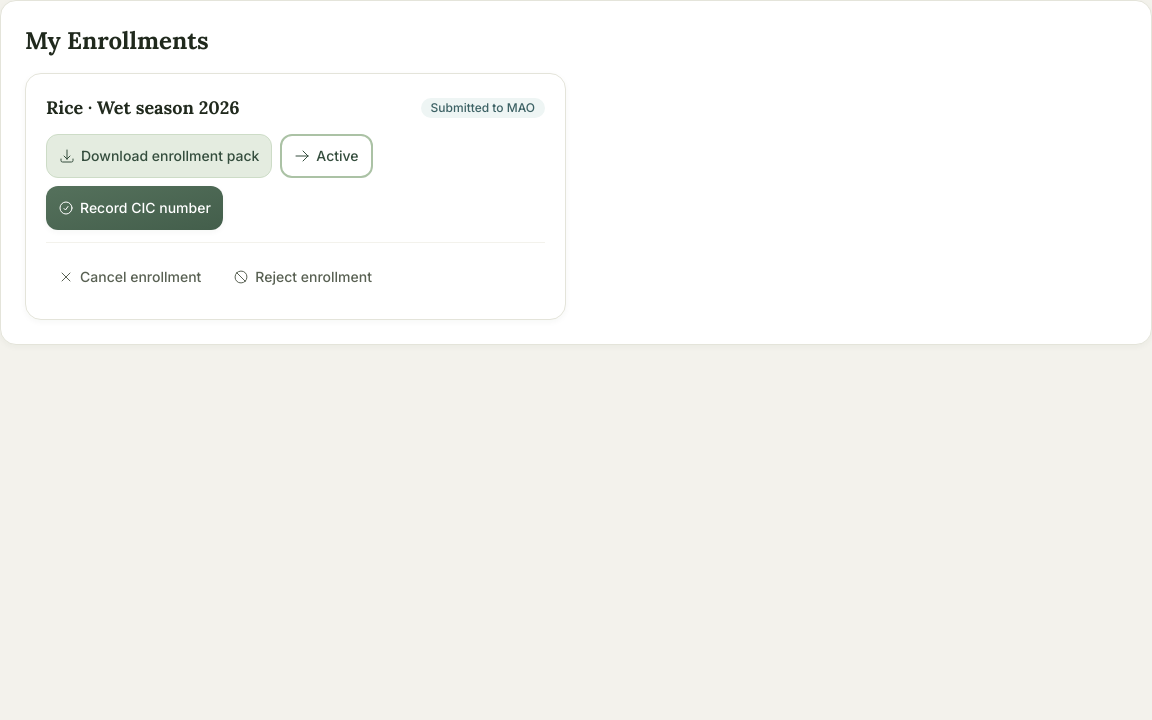
Scenario: EnrollmentTracker › blocks policy details with an empty CIC number
Step 1. Click the button with test id "record-cic-11" → (134, 208), box x1=46 y1=186 x2=223 y2=230
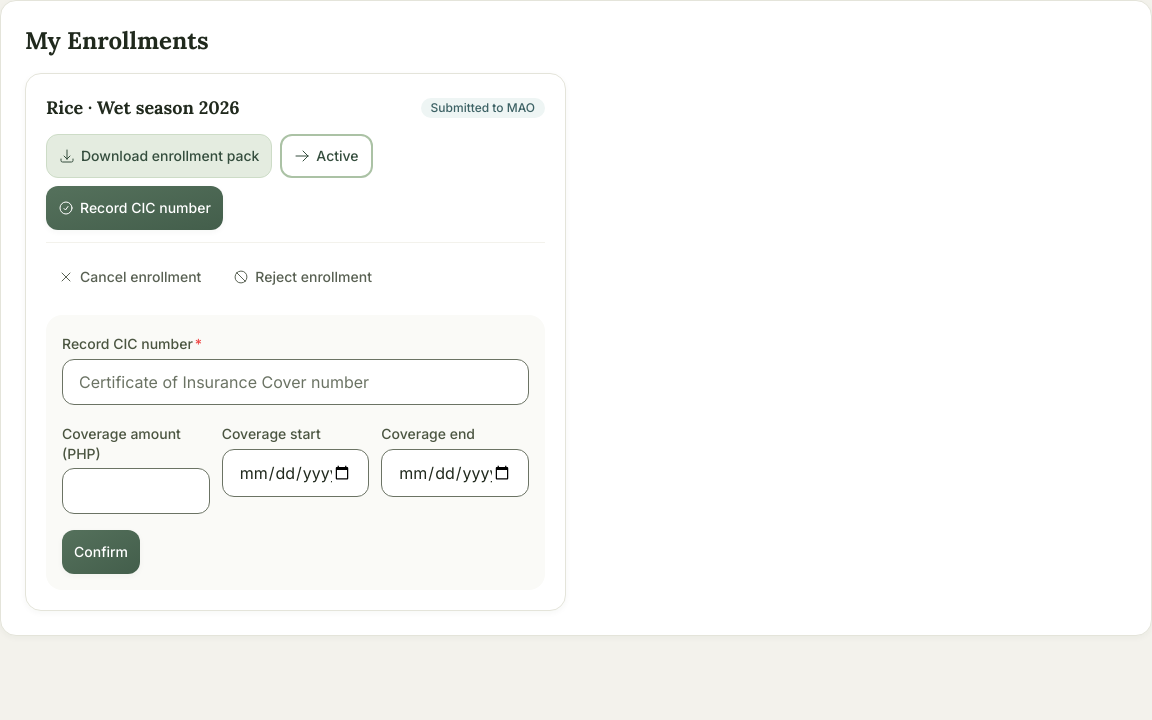
Step 2. Submit the form, box x1=46 y1=315 x2=545 y2=590
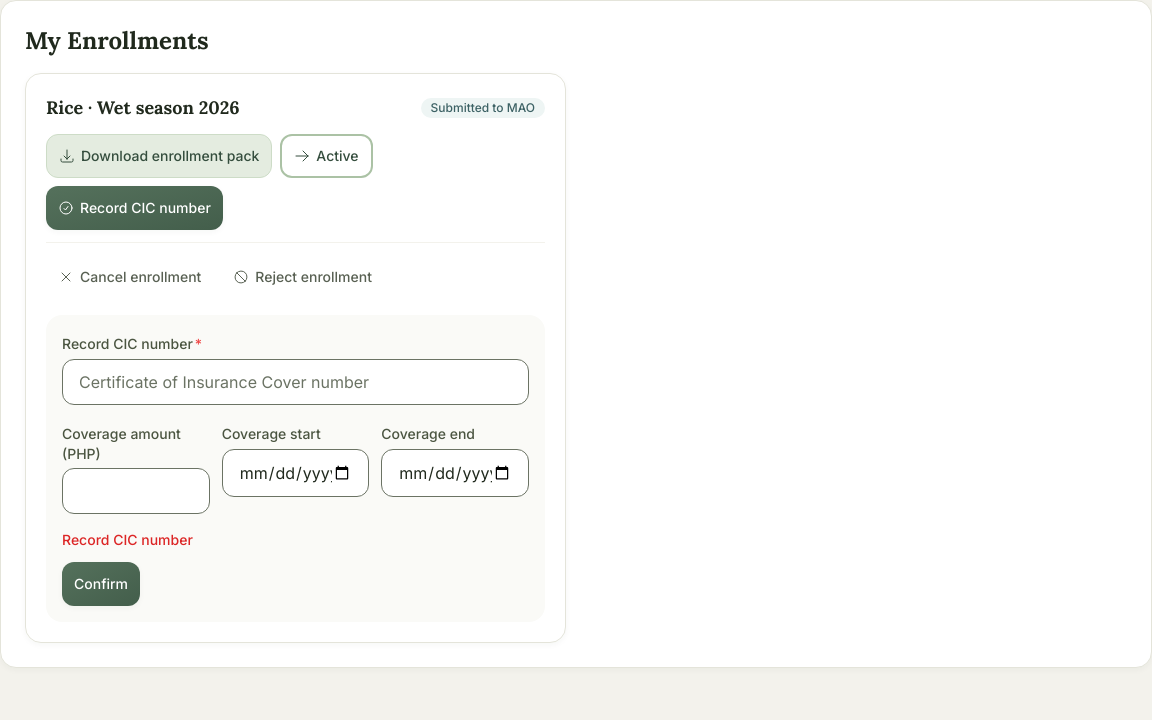
Now the message "Record CIC number" is shown, box x1=62 y1=531 x2=193 y2=548
